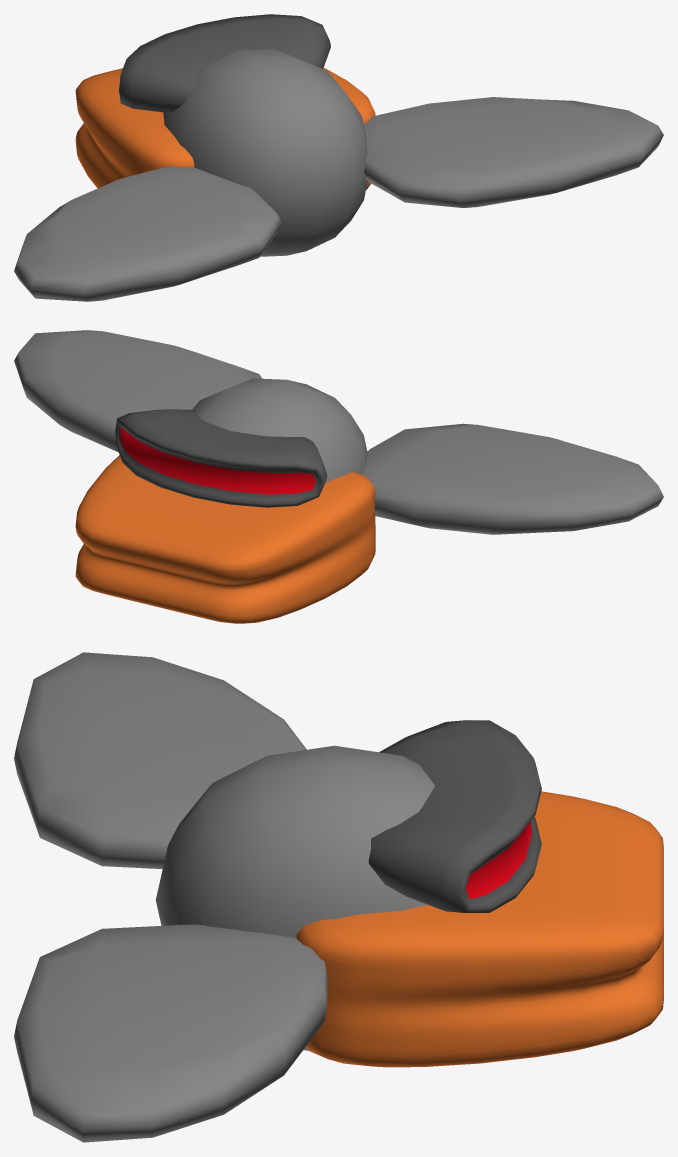
File: Metal FLappy.fbx
3 renders of one model, top to bottom at view 1: azimuth 30°, elevation 25°; view 2: azimuth 150°, elevation 25°; view 3: azimuth 270°, elevation 25°, orthographic. The views are drawn at different scales.
Parts seen in each view (by area): view 1: Metal Flappy Body, Wing1.001, Wing2.001, Vizor; view 2: Metal Flappy Body, Wing2.001, Wing1.001, Vizor; view 3: Metal Flappy Body, Wing1.001, Wing2.001, Vizor.
Part boxes in pixels (box(x1,y1,x2,y2)): Metal Flappy Body: box(75, 49, 375, 256); Wing1.001: box(363, 97, 663, 207); Wing2.001: box(14, 166, 281, 301); Vizor: box(119, 14, 330, 112); Metal Flappy Body: box(75, 378, 375, 623); Wing2.001: box(361, 423, 663, 534); Wing1.001: box(14, 330, 262, 452); Vizor: box(115, 409, 327, 507); Metal Flappy Body: box(155, 745, 663, 1067); Wing1.001: box(14, 924, 327, 1142); Wing2.001: box(14, 652, 306, 869); Vizor: box(368, 720, 541, 912).
Size of the model in its own units: 607 by 357 by 168.
